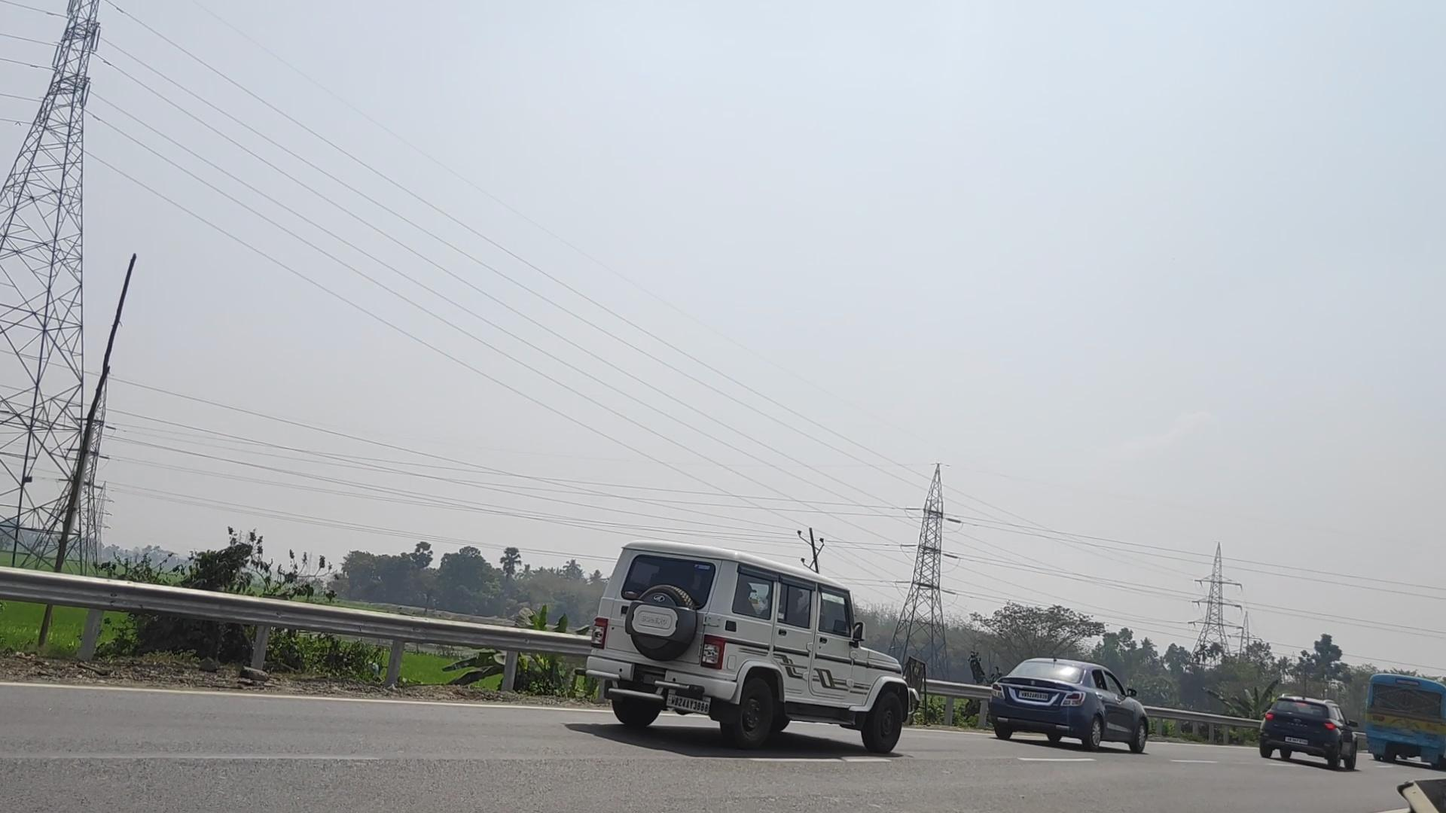Bus: (1365, 673, 1446, 770)
car: (575, 540, 920, 754), (990, 658, 1149, 754), (1258, 694, 1358, 771)
